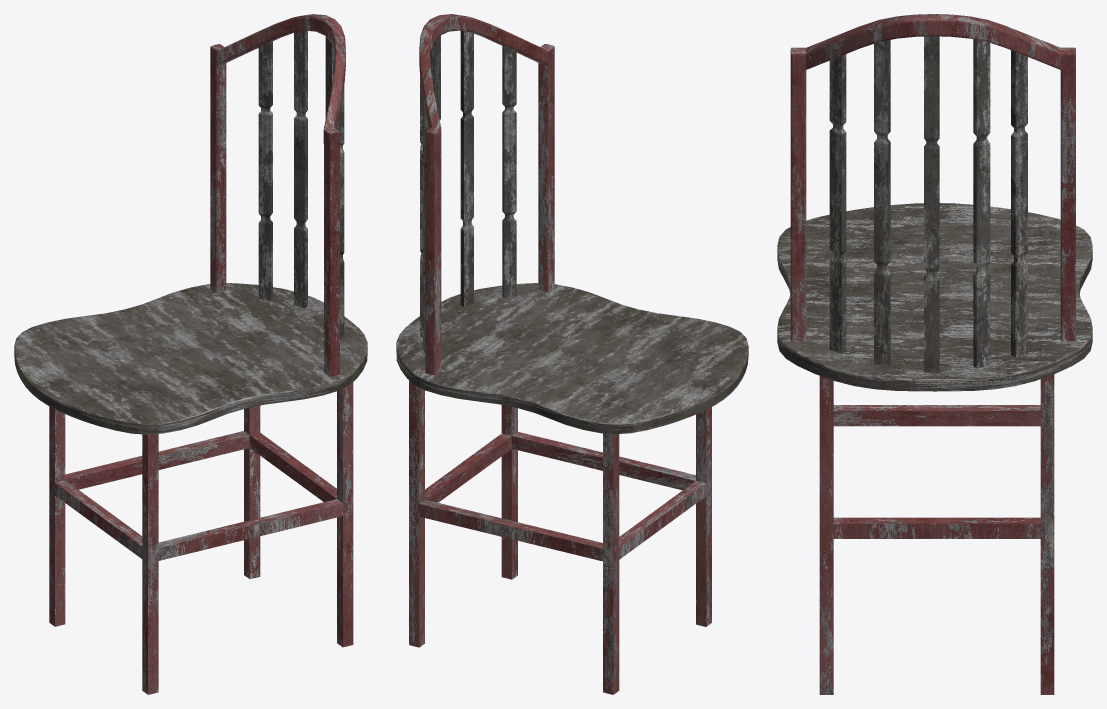
File: Silla.fbx
3 views of the same model, side by side, from view 1: azimuth 30°, elevation 25°; view 2: azimuth 150°, elevation 25°; view 3: azimuth 270°, elevation 25° (orthographic). The views are drawn at different scales.
Parts seen in each view (by area): view 1: pCube27; view 2: pCube27; view 3: pCube27.
Boxes of the visible parts, x1,y1,x2,y2 form: pCube27: (14,14,367,694); pCube27: (396,14,748,694); pCube27: (777,14,1092,694).
Bounding box in the file's own units: 1.51 × 2.78 × 1.15.
Materials: 3 (3 with a texture image).
